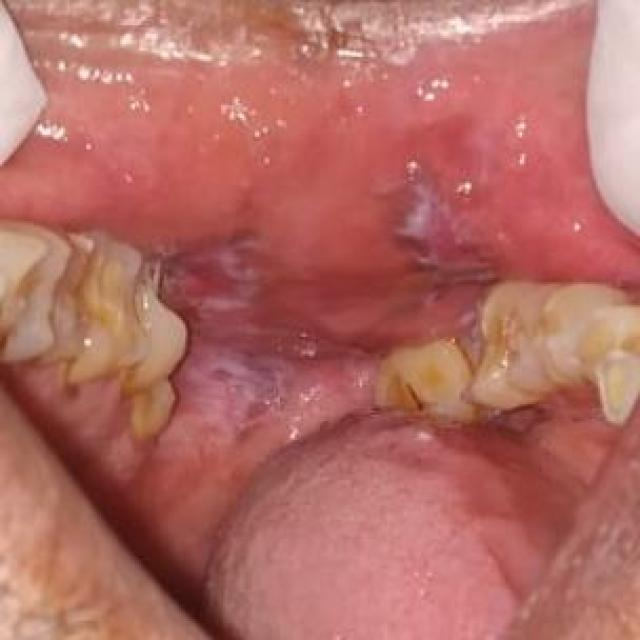leukoplakia-detection: (141, 164, 510, 437)
processing_area: (5, 5, 638, 638)
